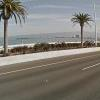Tree: (70, 9, 92, 47)
